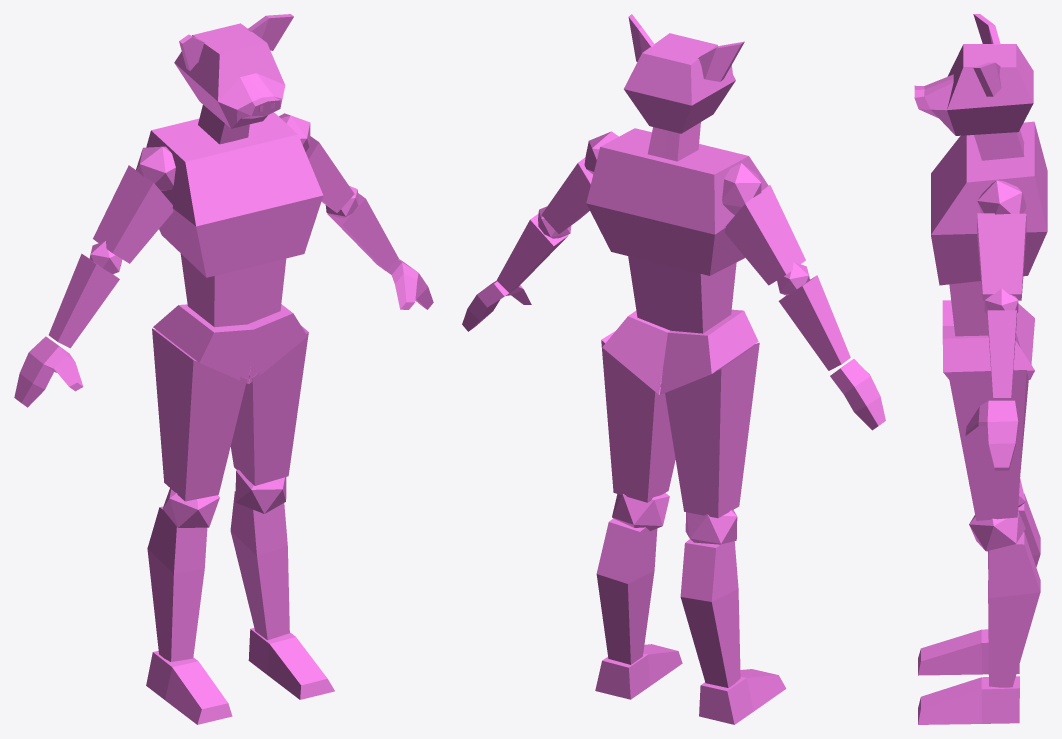
Rendered from pigman.glb.
3 renders of one model, left to right at view 1: azimuth 30°, elevation 25°; view 2: azimuth 150°, elevation 25°; view 3: azimuth 270°, elevation 25°, orthographic. The views are drawn at different scales.
Parts seen in each view (by area): view 1: pigman; view 2: pigman; view 3: pigman.
Boxes of the visible parts, x1,y1,x2,y2 form: pigman: (14,14,433,724); pigman: (462,14,885,724); pigman: (914,14,1047,724).
Bounding box in the file's own units: 5.82 × 8.88 × 1.64.
